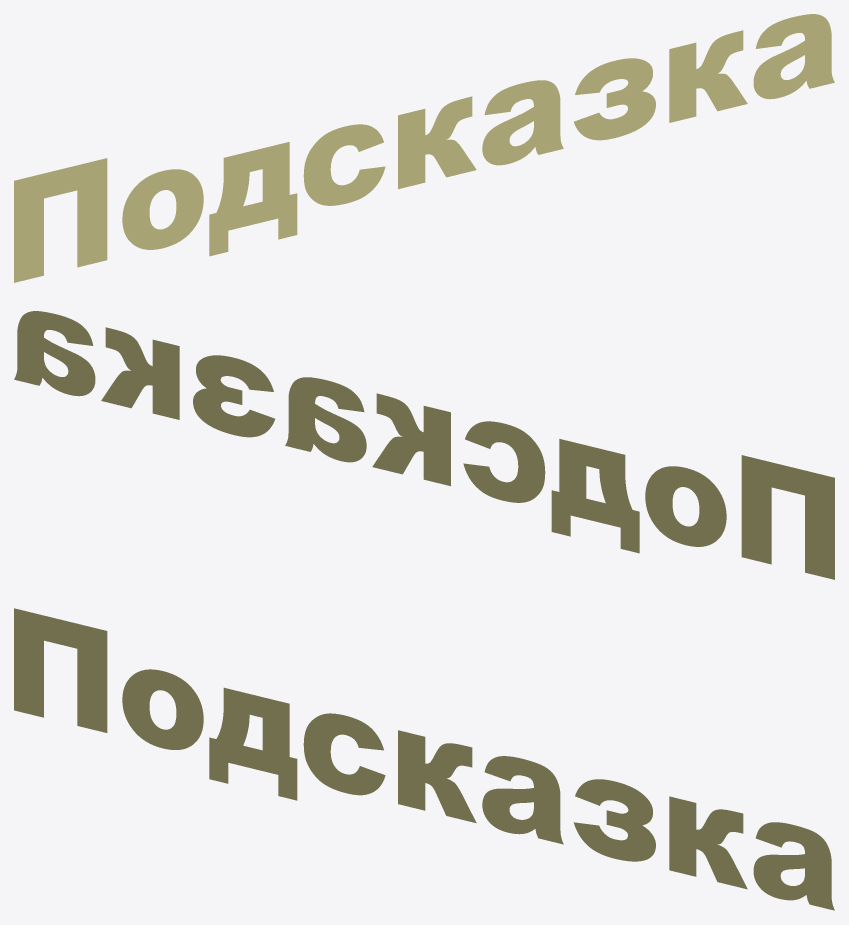
File: Help.fbx
The picture shows the model from 3 angles, top to bottom: view 1: azimuth 30°, elevation 25°; view 2: azimuth 150°, elevation 25°; view 3: azimuth 330°, elevation 25°; orthographic projection.
Visible parts, largest first — view 1: Text.003; view 2: Text.003; view 3: Text.003.
Part boxes in pixels (left/top/right/bottom): Text.003: left=14, top=14, right=834, bottom=282; Text.003: left=14, top=311, right=834, bottom=579; Text.003: left=14, top=608, right=834, bottom=910.
Size of the model in its own units: 586 by 84.11 by 1e-05.
